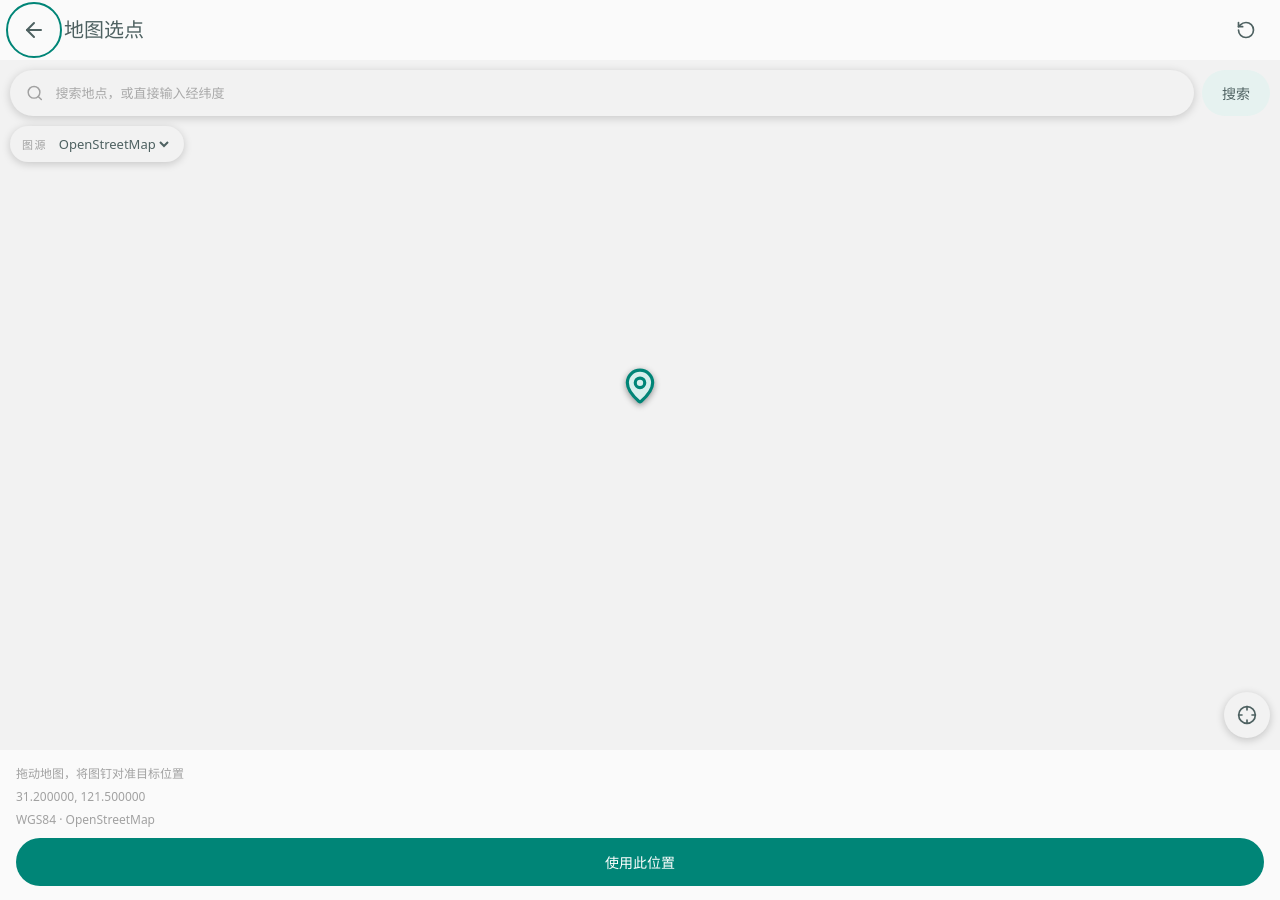
Test case: switches the map source and remembers the choice
The image size is (1280, 900).
Select "高德地图" in the dropdown named "地图图源" at (113, 144), box [55, 134, 172, 154]
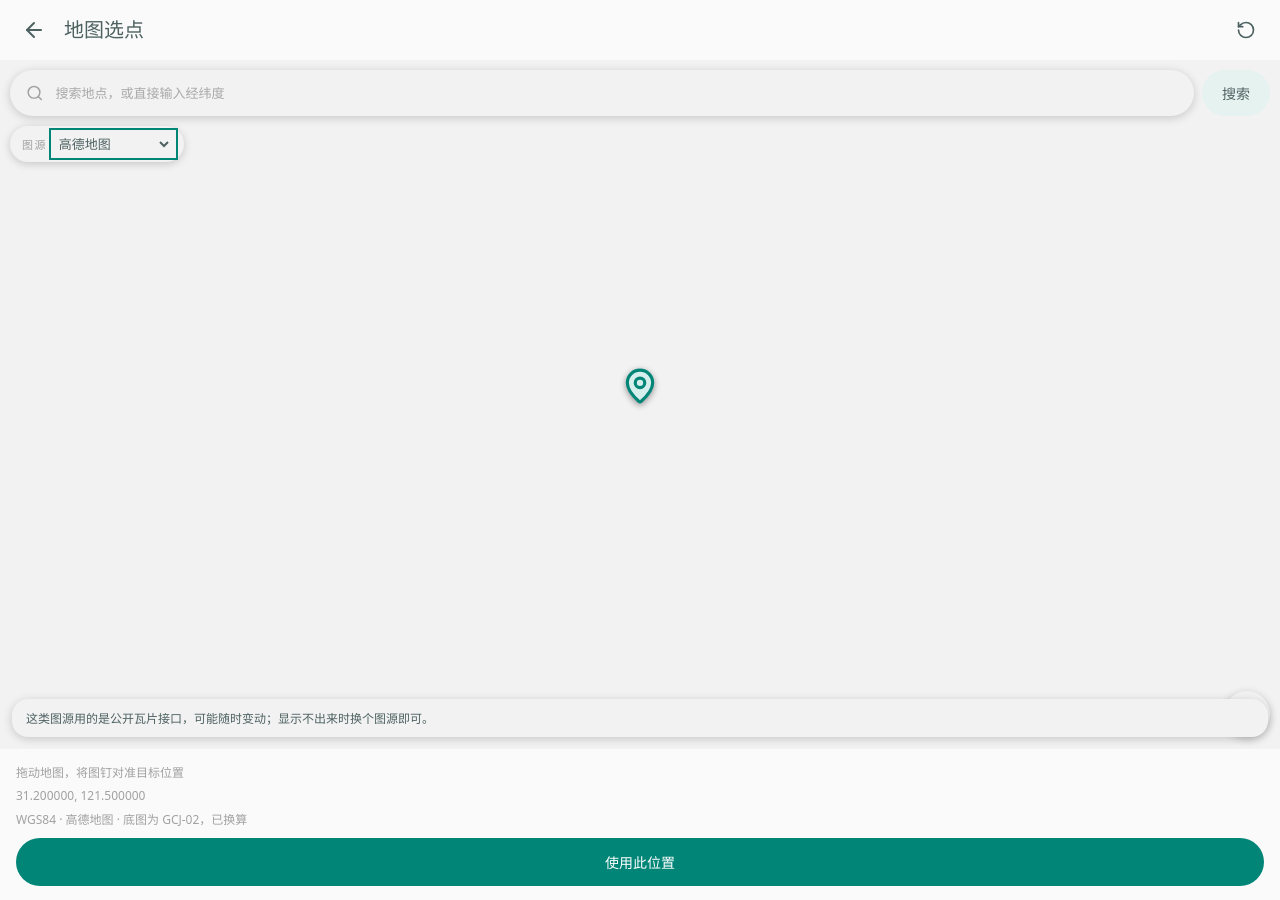
Now the text "这类图源用的是公开瓦片接口，可能随时变动；显示不出来时换个图源即可。" is shown, box [12, 699, 1268, 737]
